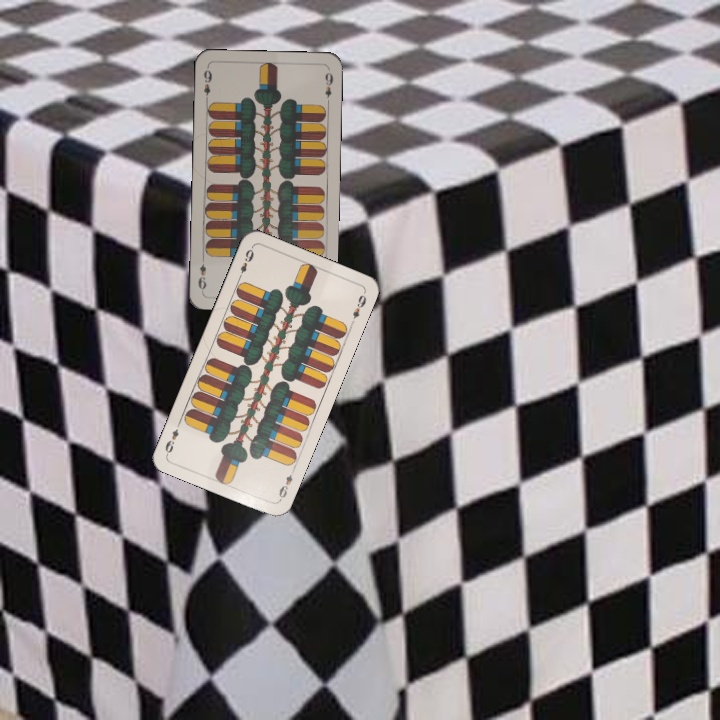E9: (275, 464, 297, 503), (234, 245, 256, 282), (200, 66, 214, 105)
